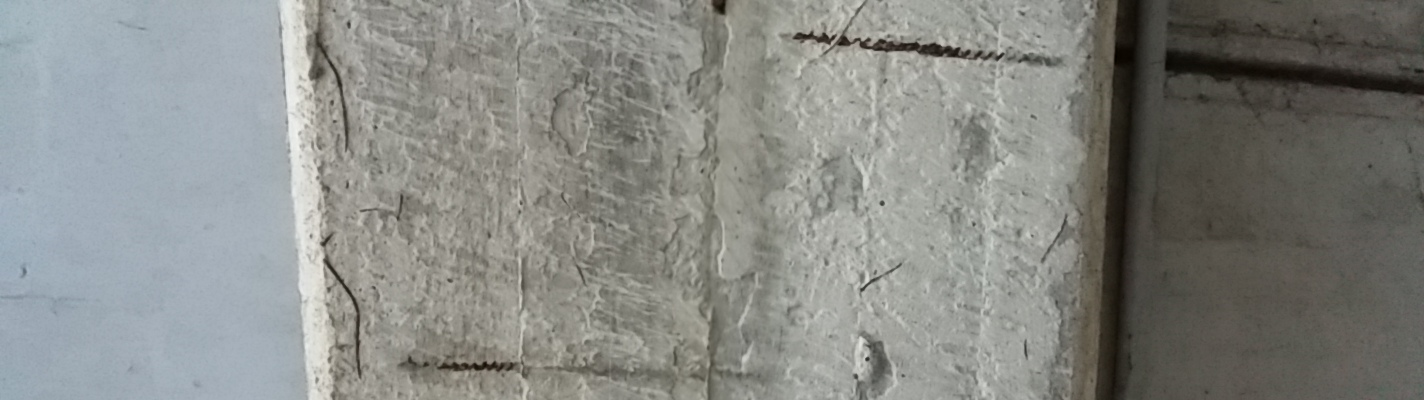Corrosion/Exposed rebar: (781, 16, 1069, 81), (399, 350, 537, 382)
